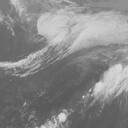cyclone: (37, 36, 106, 101)
